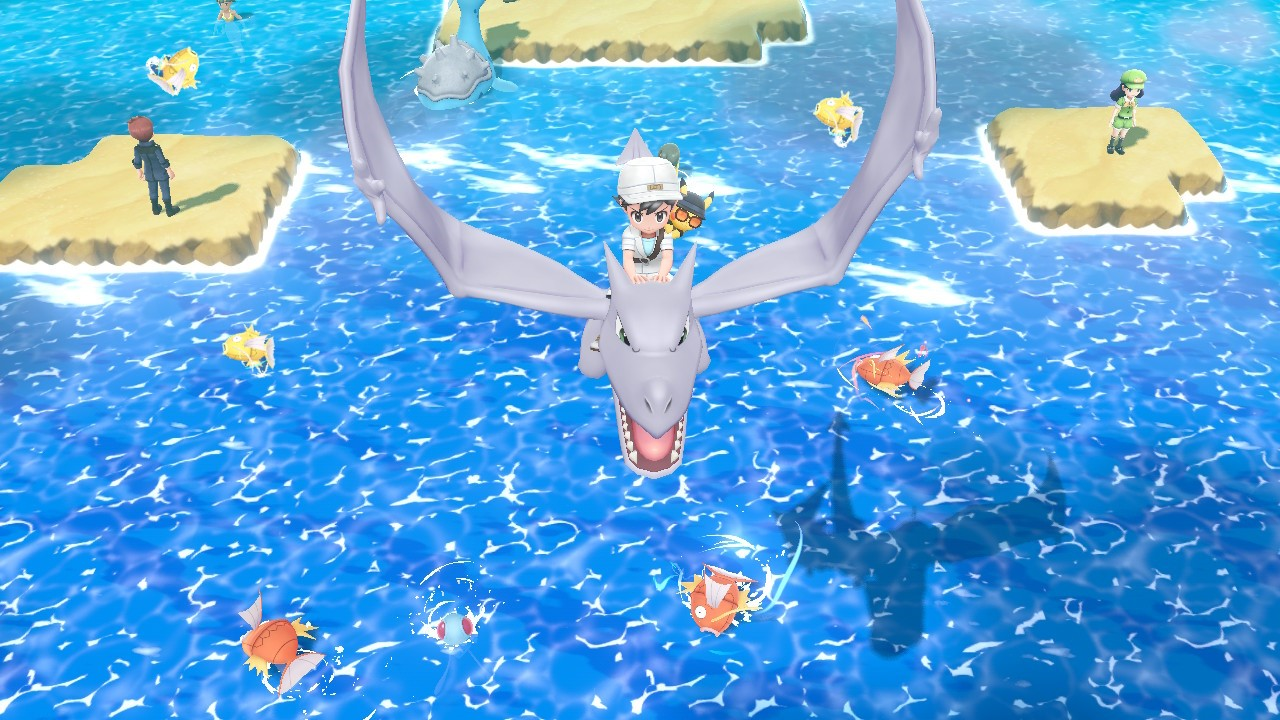Golden: (218, 321, 278, 374), (809, 92, 866, 147), (146, 45, 200, 96)
